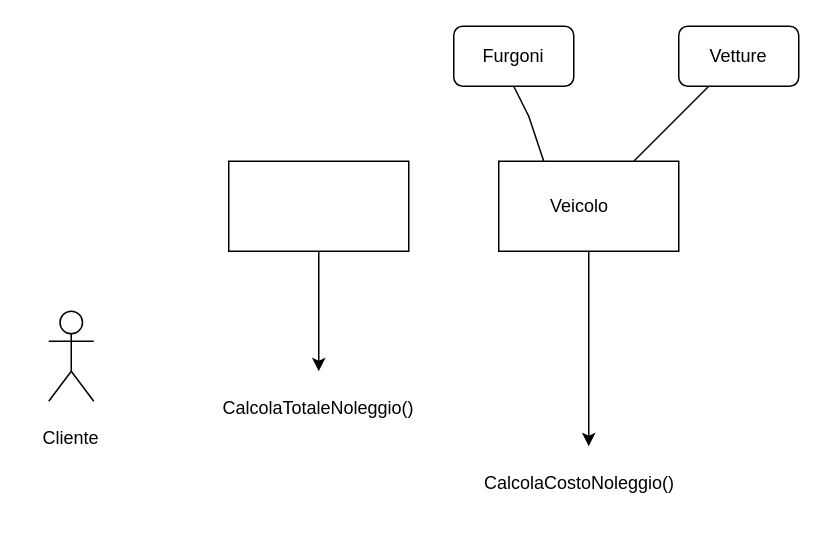
This 825x533 diagram has some shape labels left out. Each missing label, with the centre of its shape:
"Actor" goes at pixel 70 355.
"Autonoleggio" goes at pixel 318 205.
